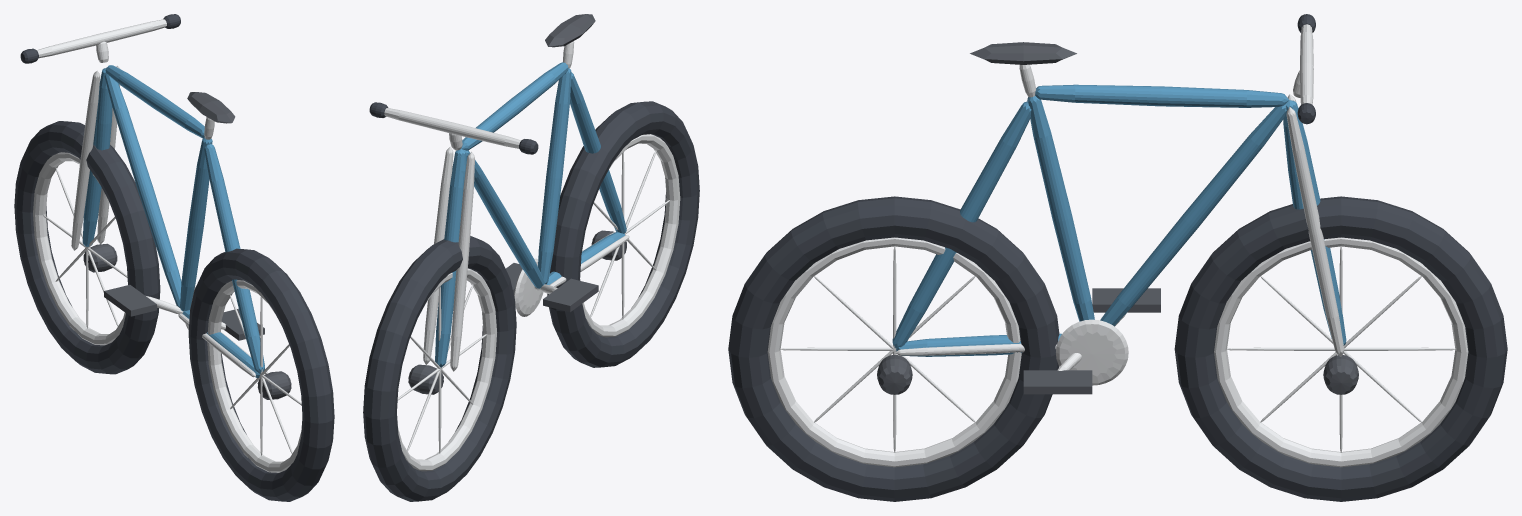
The model's file is bicycle.glb.
3 views of the same model, side by side, from view 1: azimuth 30°, elevation 25°; view 2: azimuth 150°, elevation 25°; view 3: azimuth 270°, elevation 25° (orthographic). The views are drawn at different scales.
Parts seen in each view (by area): view 1: Bicicleta, BikeWheelR, BikeWheelF; view 2: Bicicleta, BikeWheelF, BikeWheelR; view 3: BikeWheelF, BikeWheelR, Bicicleta.
Part boxes in pixels (box(x1,y1,x2,y2)): Bicicleta: box(20, 14, 267, 377); BikeWheelR: box(188, 248, 334, 501); BikeWheelF: box(14, 121, 160, 374); Bicicleta: box(369, 14, 629, 371); BikeWheelF: box(363, 236, 516, 501); BikeWheelR: box(547, 101, 699, 367); BikeWheelF: box(1174, 196, 1507, 501); BikeWheelR: box(728, 196, 1059, 501); Bicicleta: box(892, 14, 1346, 394).
Size of the model in its own units: 0.54 by 1.17 by 1.82.
